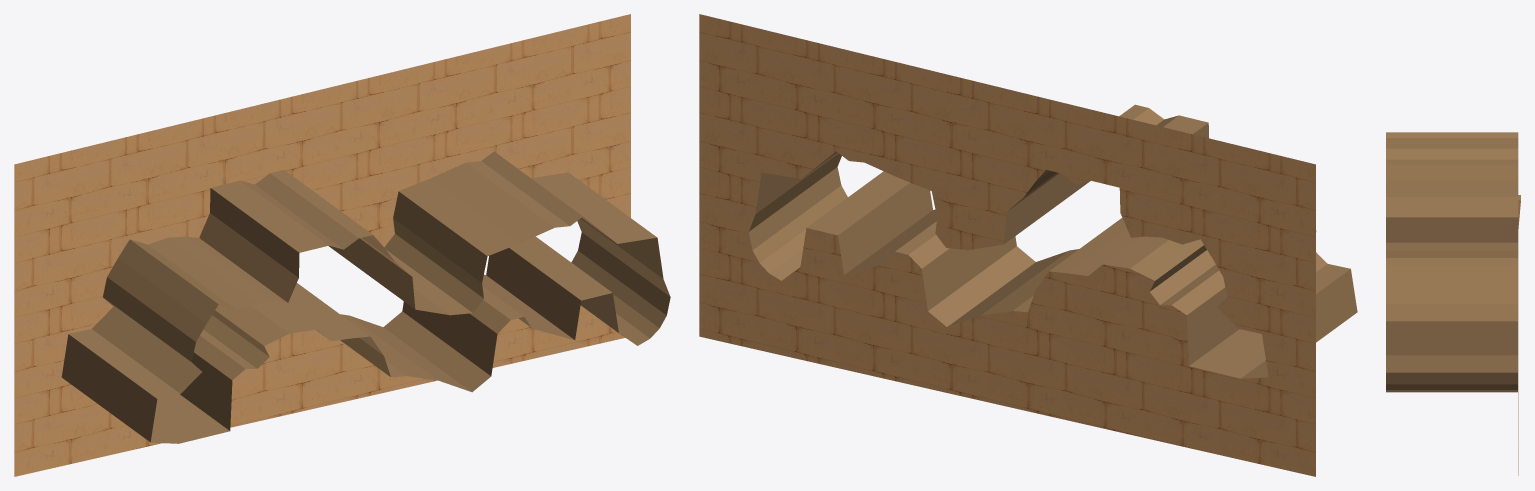
The model's file is Crack_4x2.fbx.
The picture shows the model from 3 angles, left to right: view 1: azimuth 30°, elevation 25°; view 2: azimuth 150°, elevation 25°; view 3: azimuth 270°, elevation 25°; orthographic projection. The views are drawn at different scales.
Parts seen in each view (by area): view 1: Crack_4x2; view 2: Crack_4x2; view 3: Crack_4x2.
Boxes of the visible parts, x1=… form: Crack_4x2: x1=14, y1=14, x2=670, y2=476; Crack_4x2: x1=699, y1=14, x2=1357, y2=476; Crack_4x2: x1=1386, y1=132, x2=1520, y2=475.
Bounding box in the file's own units: 400 × 200 × 102.
